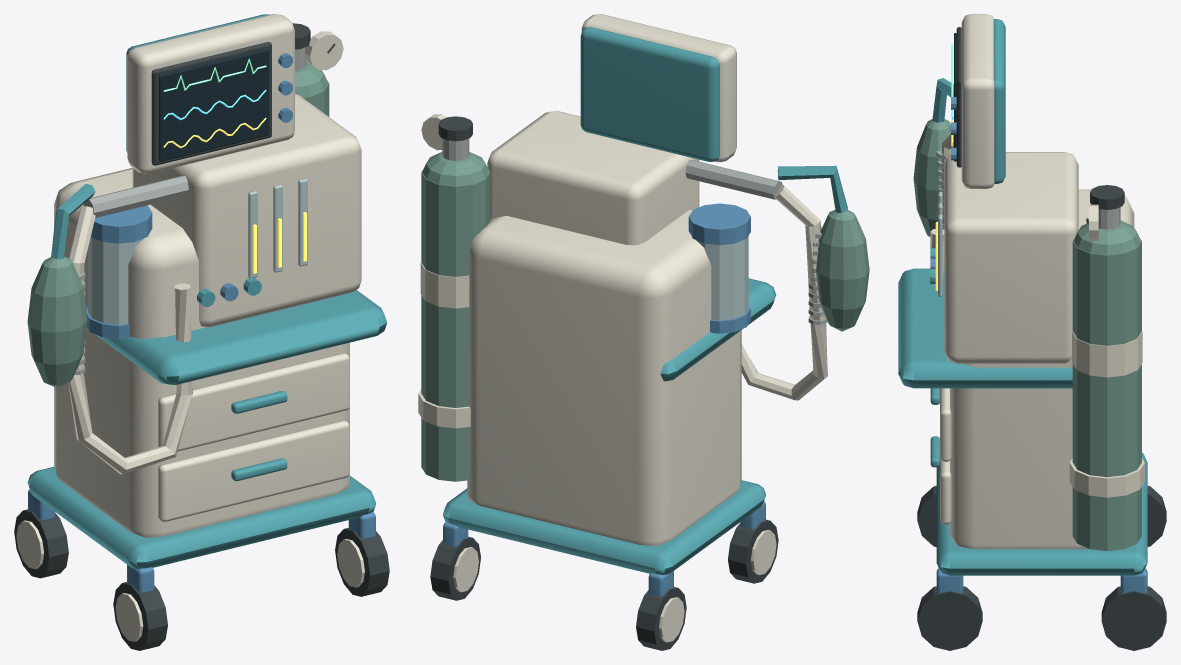
File: anesthesia_workstation_standard.glb
3 views of the same model, side by side, from view 1: azimuth 30°, elevation 25°; view 2: azimuth 150°, elevation 25°; view 3: azimuth 270°, elevation 25° (orthographic). The views are drawn at different scales.
Parts seen in each view (by area): view 1: STATIC_anesthesia_workstation_standard; view 2: STATIC_anesthesia_workstation_standard; view 3: STATIC_anesthesia_workstation_standard.
Boxes of the visible parts, x1=… form: STATIC_anesthesia_workstation_standard: x1=14, y1=14, x2=389, y2=650; STATIC_anesthesia_workstation_standard: x1=418, y1=14, x2=869, y2=650; STATIC_anesthesia_workstation_standard: x1=898, y1=14, x2=1166, y2=650.
Size of the model in its own units: 1.1 by 1.55 by 0.7.
